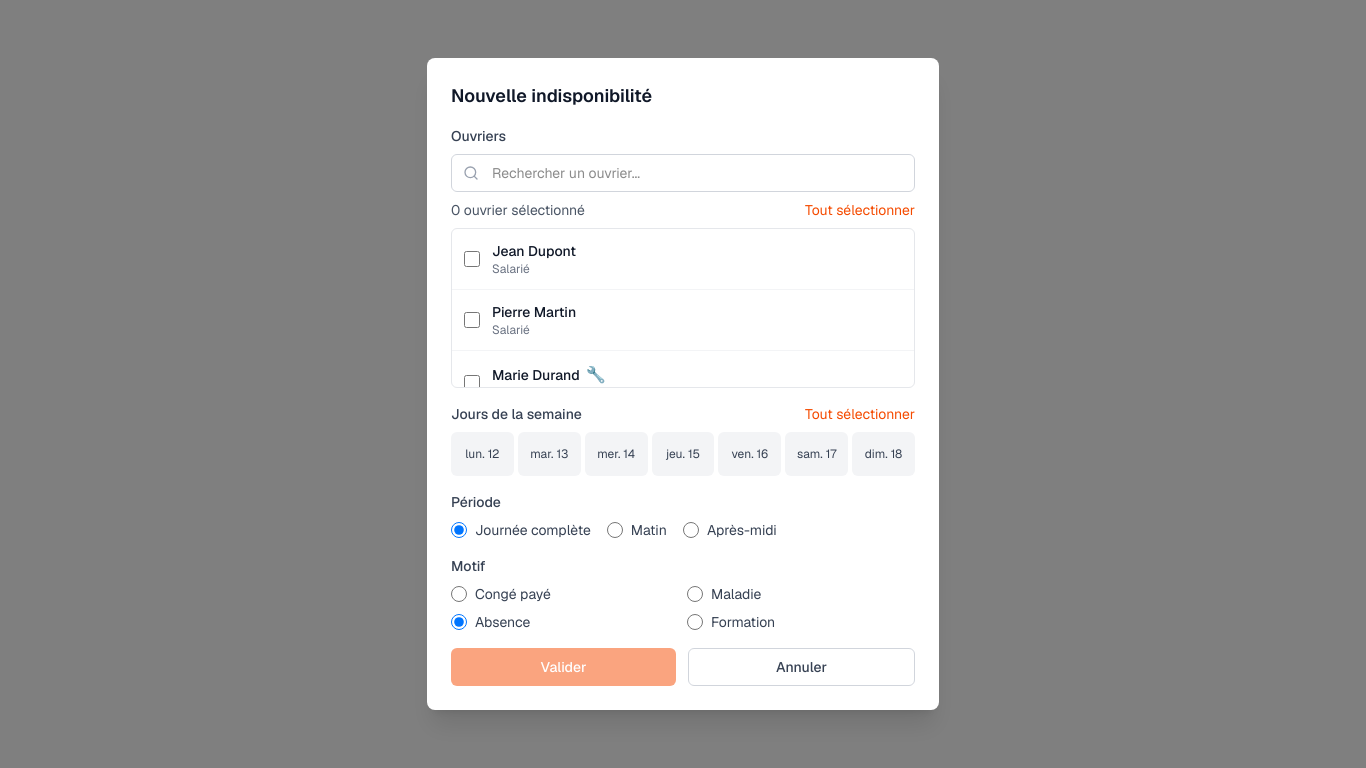
Test: IndisponibiliteMultiModal › Sélection des ouvriers (AC: 3) › permet de sélectionner un ouvrier via checkbox
Step 1. Click the checkbox labelled "Jean Dupont Salarié" → (472, 259), box [464, 251, 480, 267]
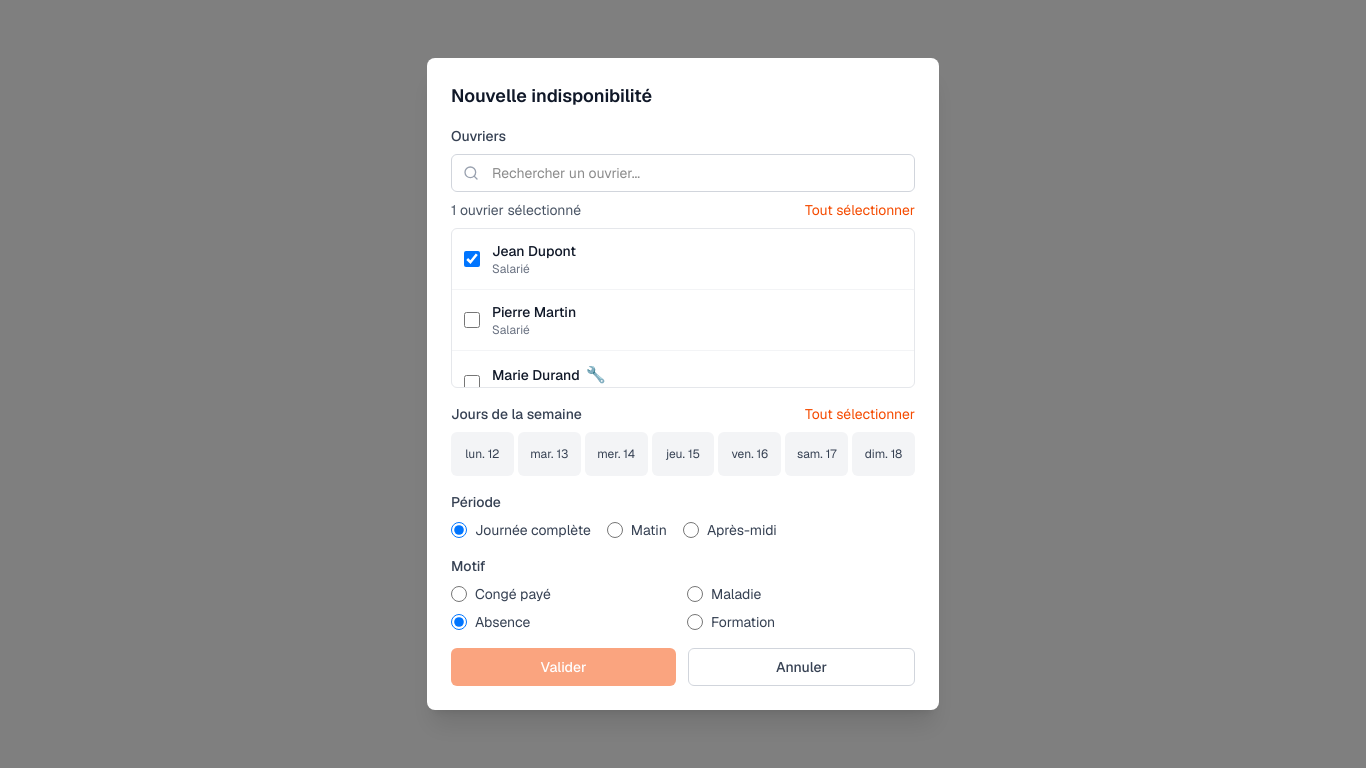
Now the text "1 ouvrier sélectionné" is shown, box [451, 200, 581, 220]
